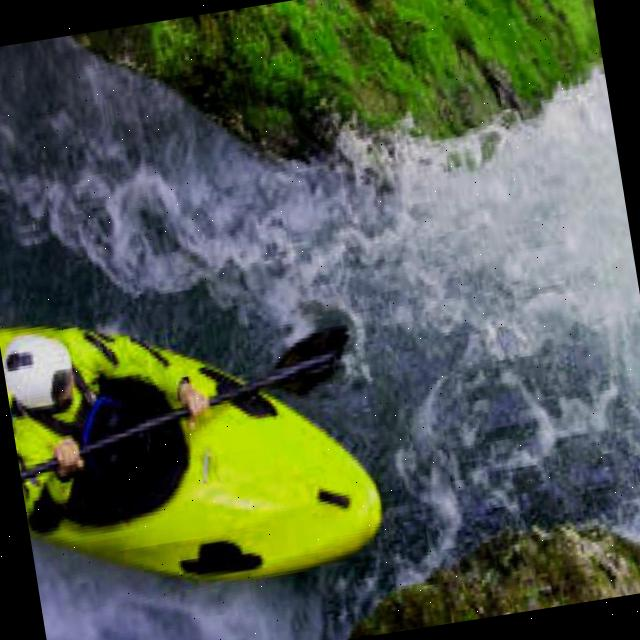kayak: (0, 324, 384, 577)
